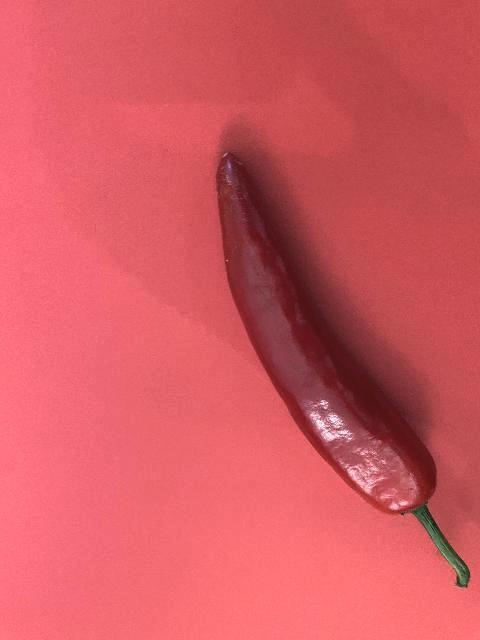chilli: (214, 148, 472, 592)
